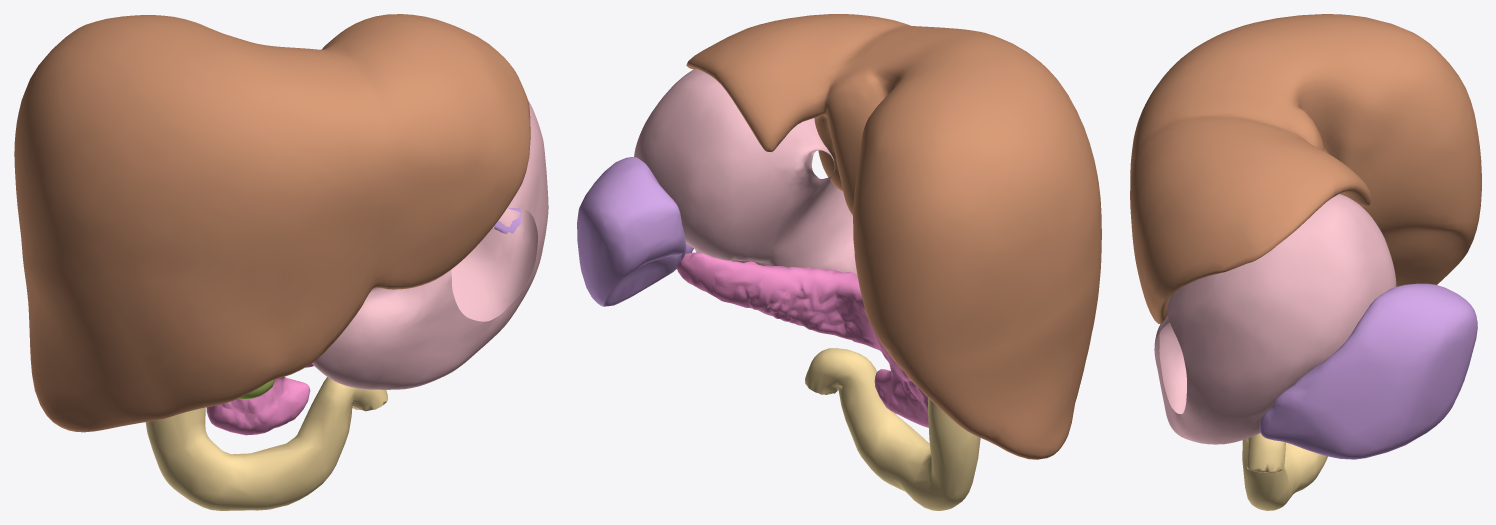
The model's file is gluco.glb.
3 renders of one model, left to right at view 1: azimuth 30°, elevation 25°; view 2: azimuth 150°, elevation 25°; view 3: azimuth 270°, elevation 25°, orthographic. The views are drawn at different scales.
Visible parts, largest first — view 1: Liver.001, Stomach.001, Duodenum.001, Pancreas.001; view 2: Liver.001, Stomach.001, Duodenum.001, Pancreas.001, Spleen.001; view 3: Liver.001, Stomach.001, Spleen.001, Duodenum.001.
Boxes of the visible parts, x1=… form: Liver.001: x1=14, y1=14, x2=530, y2=432; Stomach.001: x1=312, y1=100, x2=548, y2=389; Duodenum.001: x1=145, y1=377, x2=388, y2=510; Pancreas.001: x1=206, y1=364, x2=313, y2=435; Liver.001: x1=686, y1=14, x2=1101, y2=459; Stomach.001: x1=634, y1=68, x2=857, y2=275; Duodenum.001: x1=805, y1=348, x2=980, y2=510; Pancreas.001: x1=676, y1=252, x2=928, y2=427; Spleen.001: x1=577, y1=157, x2=693, y2=306; Liver.001: x1=1130, y1=14, x2=1481, y2=323; Stomach.001: x1=1154, y1=194, x2=1396, y2=444; Spleen.001: x1=1259, y1=283, x2=1477, y2=459; Duodenum.001: x1=1242, y1=433, x2=1327, y2=510.
Bounding box in the file's own units: 2.6 × 2.42 × 1.74.
